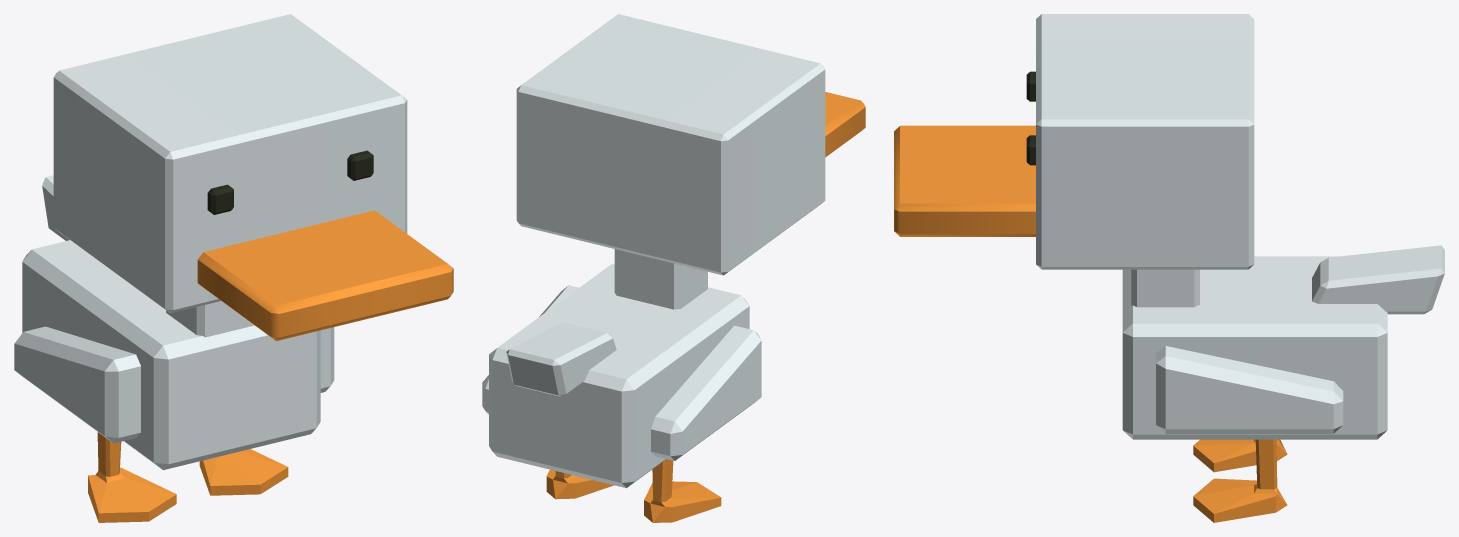
Rendered from Duck_1.glb.
3 renders of one model, left to right at view 1: azimuth 30°, elevation 25°; view 2: azimuth 150°, elevation 25°; view 3: azimuth 270°, elevation 25°, orthographic. The views are drawn at different scales.
Visible parts, largest first — view 1: Duck_1; view 2: Duck_1; view 3: Duck_1.
Part boxes in pixels (x1,y1,x2,y2): Duck_1: (14, 14, 453, 522); Duck_1: (482, 14, 865, 522); Duck_1: (894, 14, 1444, 522).
Size of the model in its own units: 0.3969 by 0.6951 by 0.8397.
3 materials, 3 textured.
